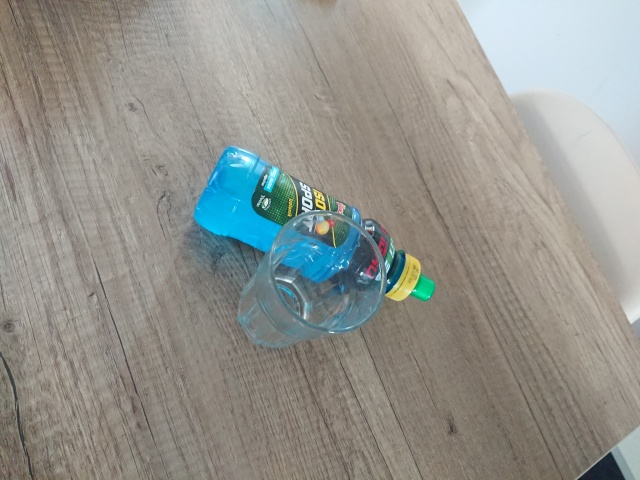Vindi Iso Sport Forest Strawberries 500mL: (189, 143, 436, 302)
